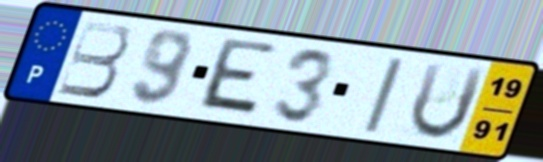3: (273, 46, 341, 125)
9: (127, 27, 192, 109)
B: (54, 18, 133, 100)
E: (192, 35, 282, 120)
I: (360, 55, 409, 136)
U: (406, 59, 491, 142)
